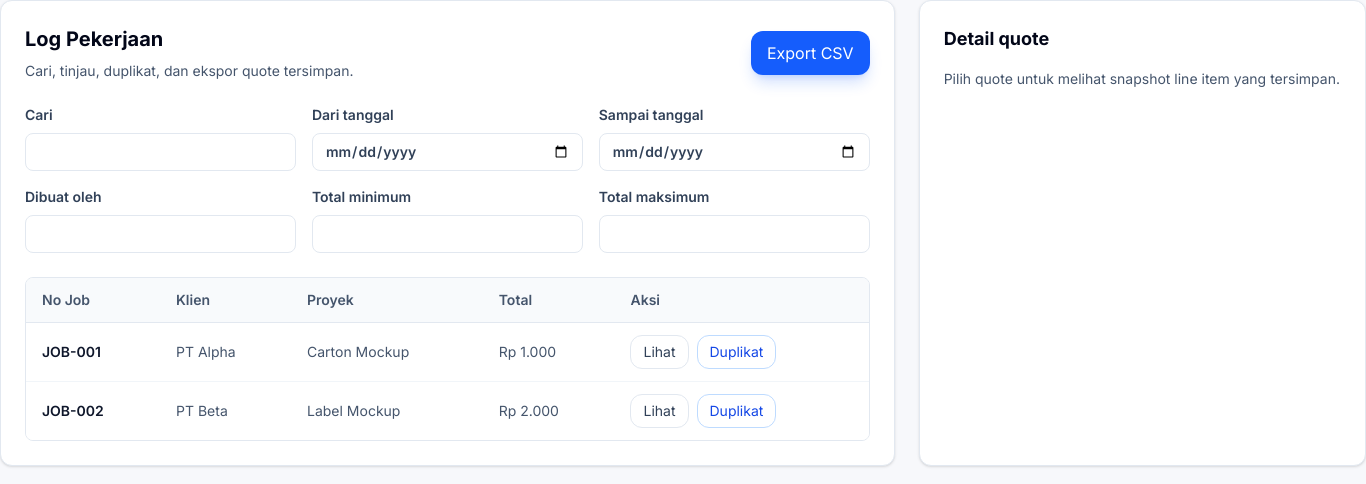
JobLogView › renders quote list and filters by query
The width and height of the screenshot is (1366, 484).
Expected: the text "JOB-001" is shown, [26,322,160,382]
Expected: the text "JOB-002" is shown, [26,382,160,440]
Type "alpha" into the field labelled "Cari" at (160, 152), box [25,133,296,171]
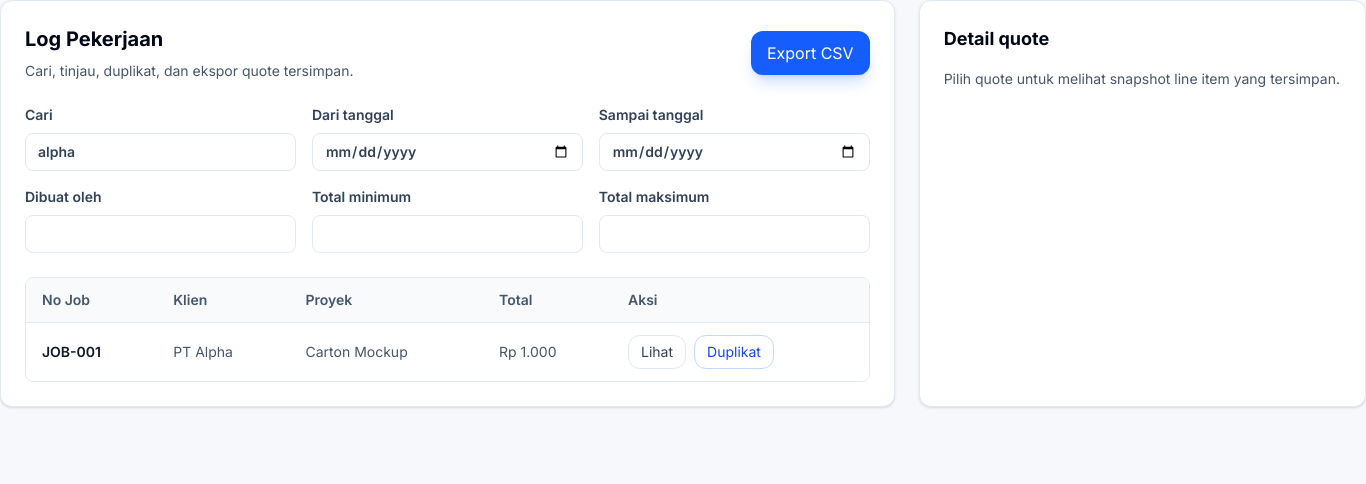
Expected: the text "JOB-001" is shown, [26,322,157,381]
Now the text "JOB-002" is gone
